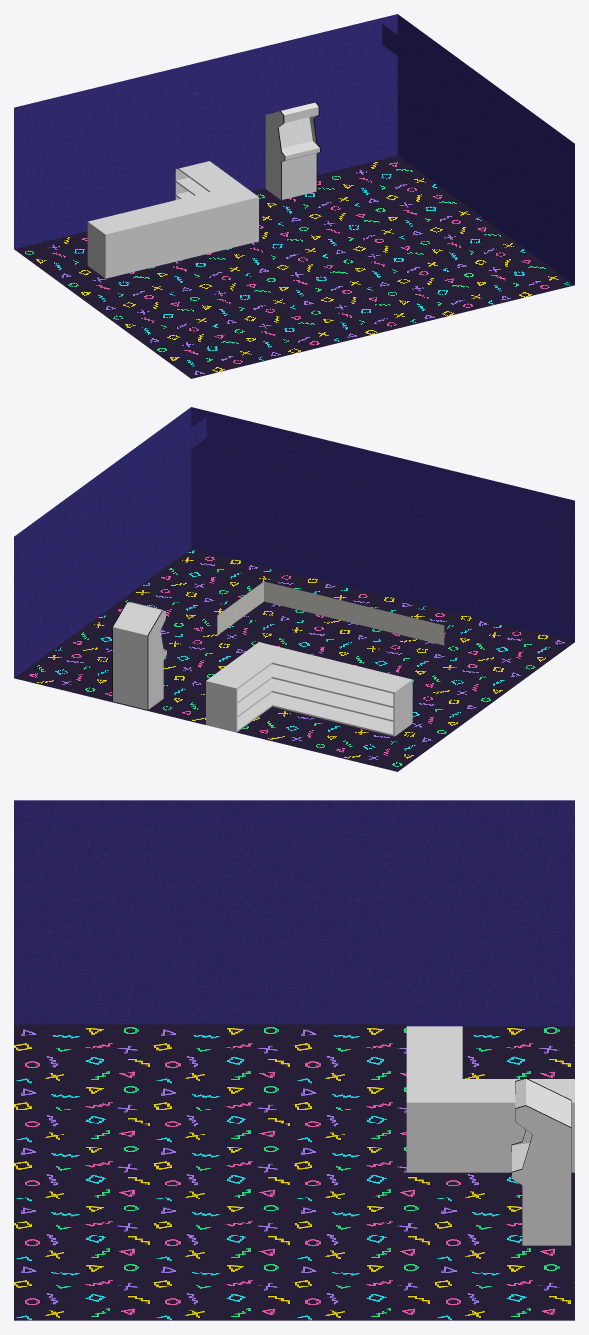
3 renders of one model, top to bottom at view 1: azimuth 30°, elevation 25°; view 2: azimuth 150°, elevation 25°; view 3: azimuth 270°, elevation 25°, orthographic. The views are drawn at different scales.
Visible parts, largest first — view 1: Room, Counter1, ArcadeCabinet1; view 2: Room, Counter1, ArcadeCabinet1; view 3: Room, Counter1, ArcadeCabinet1.
Part boxes in pixels (x1,y1,x2,y2): Room: (14, 14, 574, 378); Counter1: (87, 161, 258, 278); ArcadeCabinet1: (265, 102, 320, 200); Room: (14, 407, 574, 771); Counter1: (206, 642, 412, 736); ArcadeCabinet1: (112, 601, 166, 709); Room: (14, 800, 574, 1320); Counter1: (406, 1026, 574, 1172); ArcadeCabinet1: (511, 1078, 571, 1245).
Size of the model in its own units: 10 by 4.05 by 8.
Materials: 3 (3 with a texture image).
